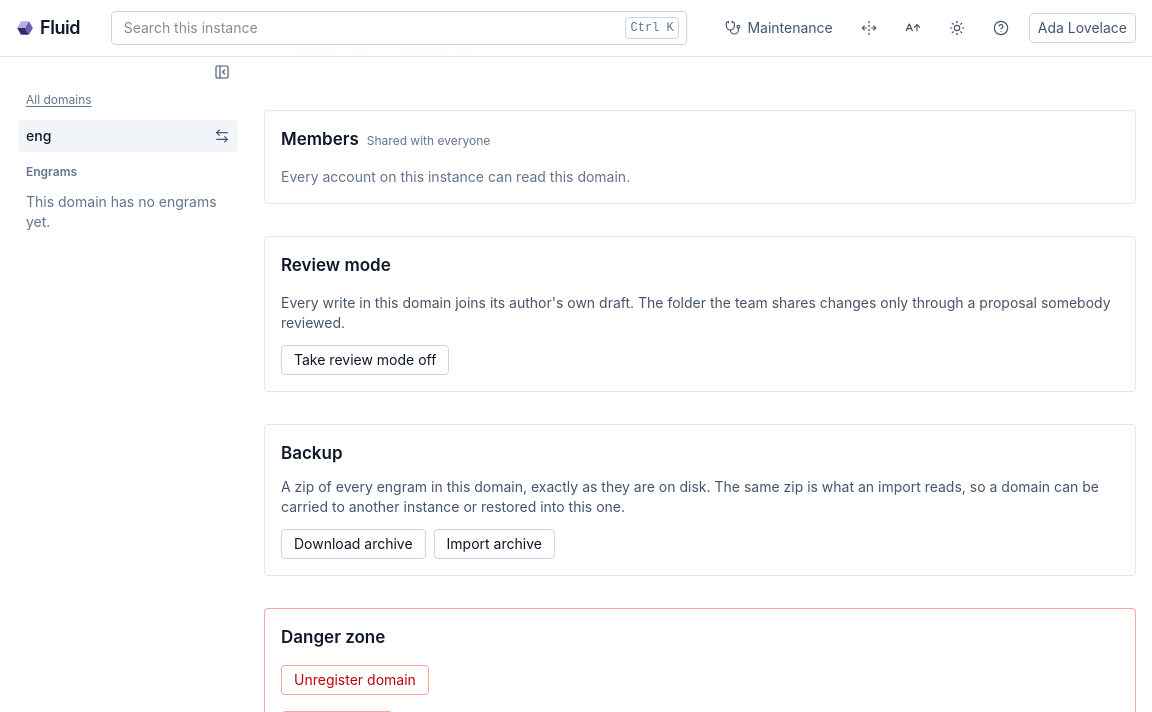
ReviewModeCard › says which of the draft changes is a file
(page scrolled)
Click the button "Take review mode off": (365, 360) top-left (281, 345), bottom-right (449, 375)
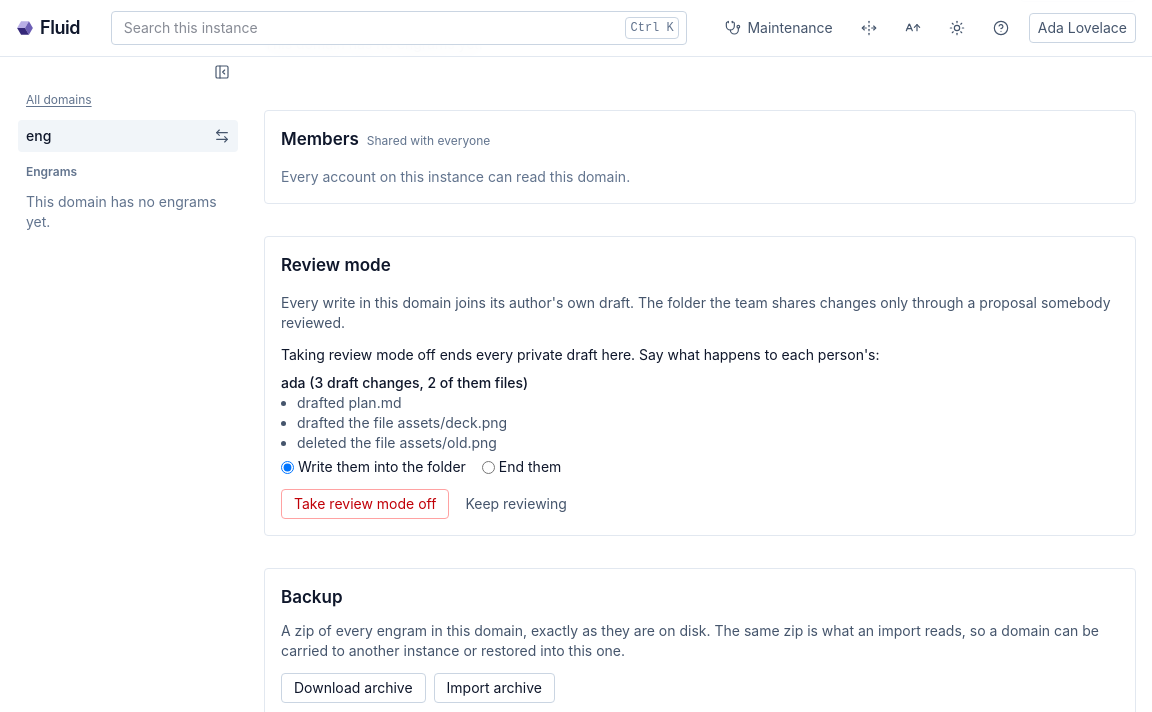
expect the text "ada (3 draft changes, 2 of them files)" is shown: met, box top-left (281, 373), bottom-right (528, 393)
expect the list item "drafted the file assets/deck.png" is shown: met, box top-left (297, 414), bottom-right (507, 431)
expect the list item "deleted the file assets/old.png" is shown: met, box top-left (297, 434), bottom-right (497, 451)
